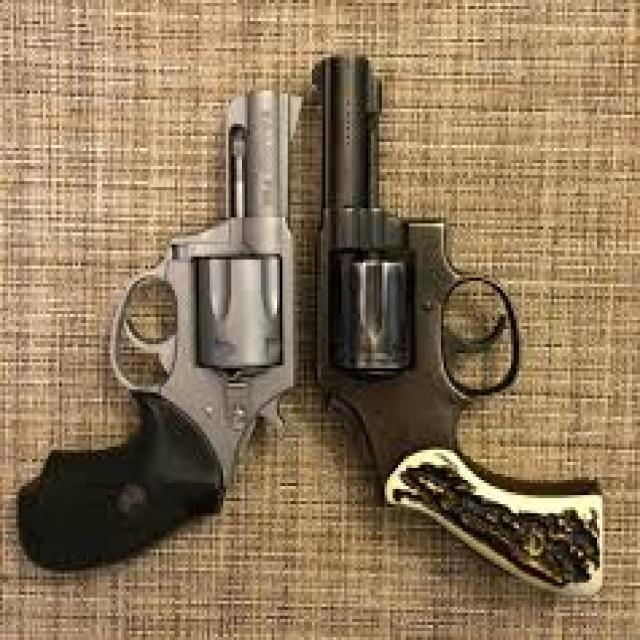Gun: (311, 42, 640, 606), (19, 62, 329, 593)
